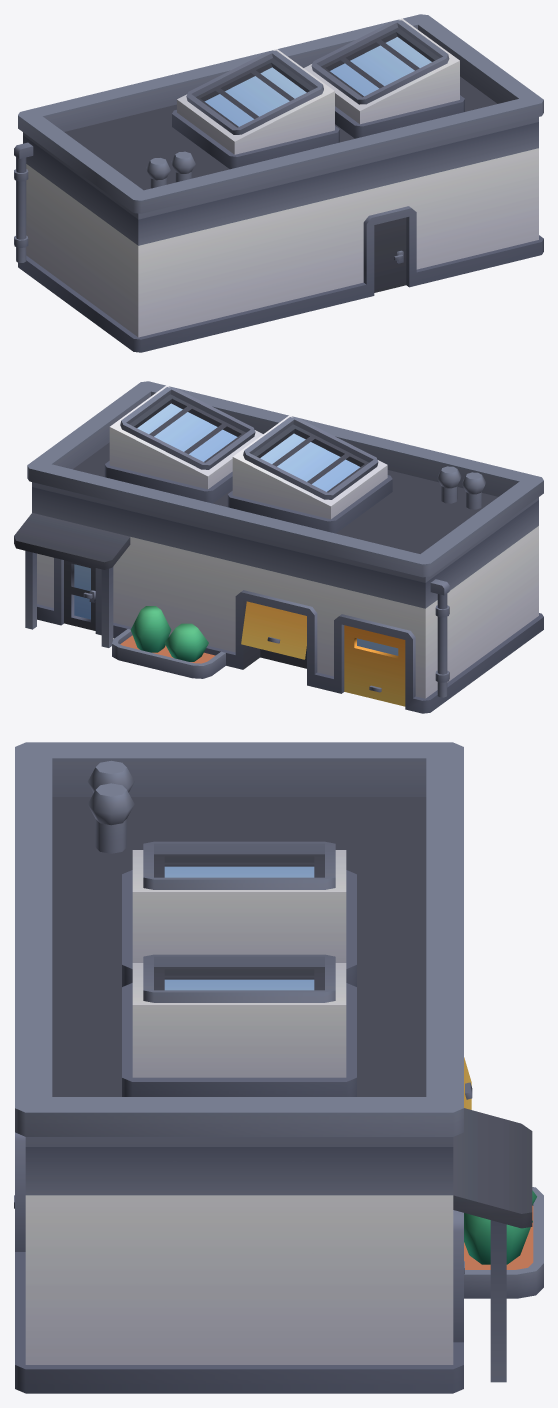
File: kenney-city-industrial-building-p.glb
3 renders of one model, top to bottom at view 1: azimuth 30°, elevation 25°; view 2: azimuth 150°, elevation 25°; view 3: azimuth 270°, elevation 25°, orthographic. The views are drawn at different scales.
Visible parts, largest first — view 1: building-p; view 2: building-p; view 3: building-p.
Part boxes in pixels (x1,y1,x2,y2): building-p: [14, 14, 543, 352]; building-p: [14, 381, 543, 713]; building-p: [14, 742, 543, 1393].
Bounding box in the file's own units: 1.68 × 0.7144 × 0.992.
Materials: 1 (1 with a texture image).
